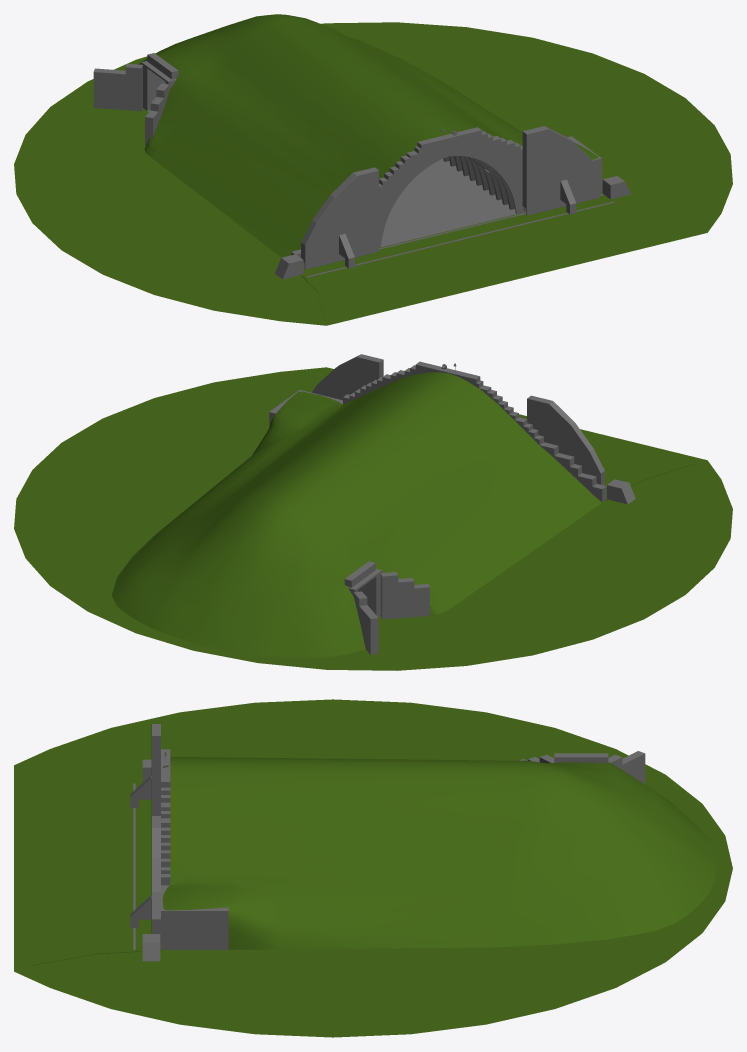
File: Hangar.fbx
3 views of the same model, one above another, from view 1: azimuth 30°, elevation 25°; view 2: azimuth 150°, elevation 25°; view 3: azimuth 270°, elevation 25° (orthographic). The views are drawn at different scales.
Visible parts, largest first — view 1: Ground, Ground.001, Gates, Hangar, FrontWall, Back Wall, Hangar ribbing; view 2: Ground, Gates, Back Wall, FrontWall, Ground.001, Hangar; view 3: Ground, Ground.001, FrontWall, Gates, Back Wall.
Part boxes in pixels (<box>): Ground: <box>14,14,732,325</box>; Ground.001: <box>301,193,689,318</box>; Gates: <box>275,126,631,279</box>; Hangar: <box>141,61,516,247</box>; FrontWall: <box>291,127,602,257</box>; Back Wall: <box>93,53,178,145</box>; Hangar ribbing: <box>443,156,516,213</box>; Ground: <box>14,367,732,670</box>; Gates: <box>312,354,635,504</box>; Back Wall: <box>344,561,429,654</box>; FrontWall: <box>269,361,606,502</box>; Ground.001: <box>586,437,694,500</box>; Hangar: <box>348,569,382,617</box>; Ground: <box>14,699,732,1037</box>; Ground.001: <box>30,768,162,965</box>; FrontWall: <box>161,749,228,949</box>; Gates: <box>130,724,160,961</box>; Back Wall: <box>519,751,645,784</box>.
Size of the model in its own units: 5919 by 924 by 5320.
